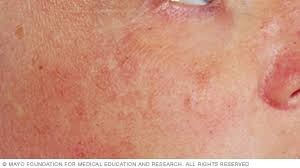Melasma: (0, 29, 225, 158), (255, 50, 300, 110), (148, 3, 230, 22)
